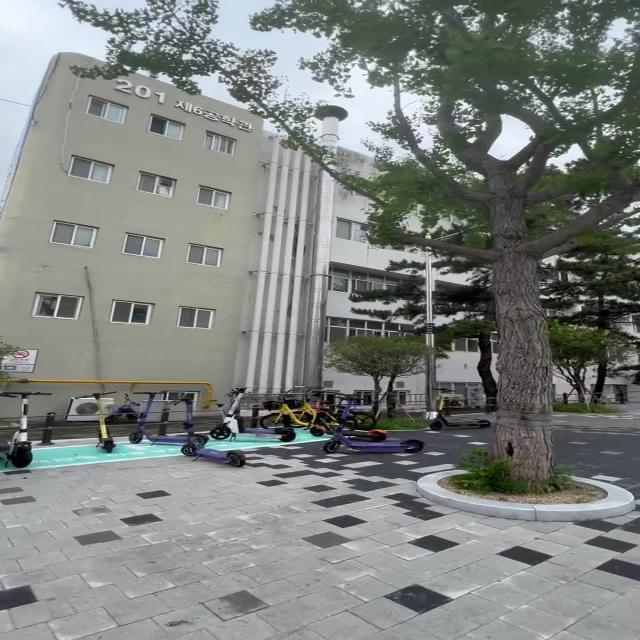building: (16, 52, 347, 381)
